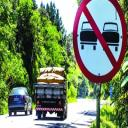NoUltrapassar: (71, 0, 127, 85)
